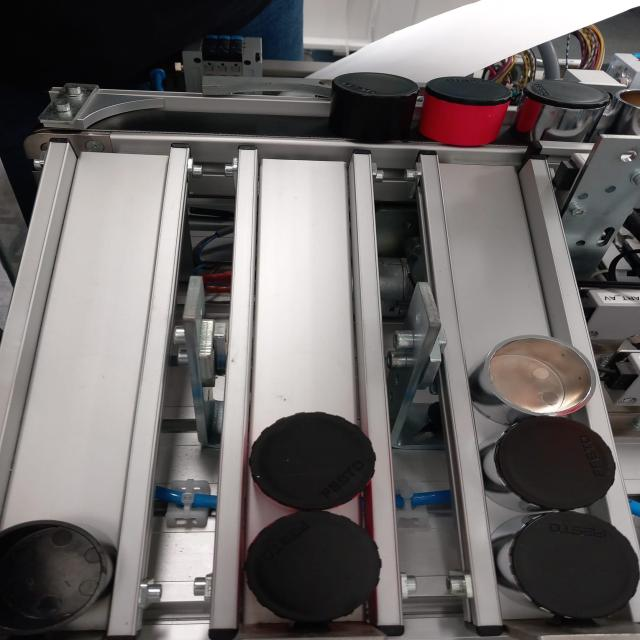NoLid: (0, 509, 114, 633), (470, 330, 596, 420)
Workpiece: (249, 509, 389, 624), (491, 516, 638, 625), (487, 421, 619, 512), (250, 409, 370, 509)
